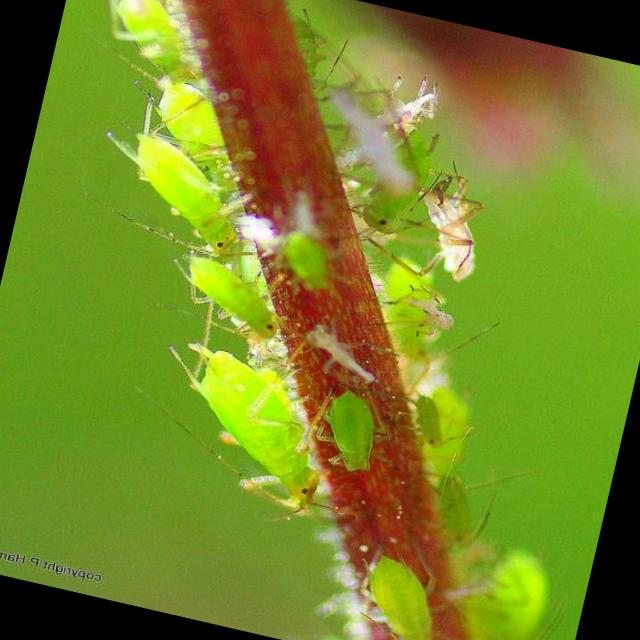aphid: (165, 336, 344, 526), (100, 114, 282, 274), (158, 240, 316, 364), (296, 364, 424, 500), (336, 528, 462, 640), (413, 464, 507, 564), (398, 383, 482, 468)
